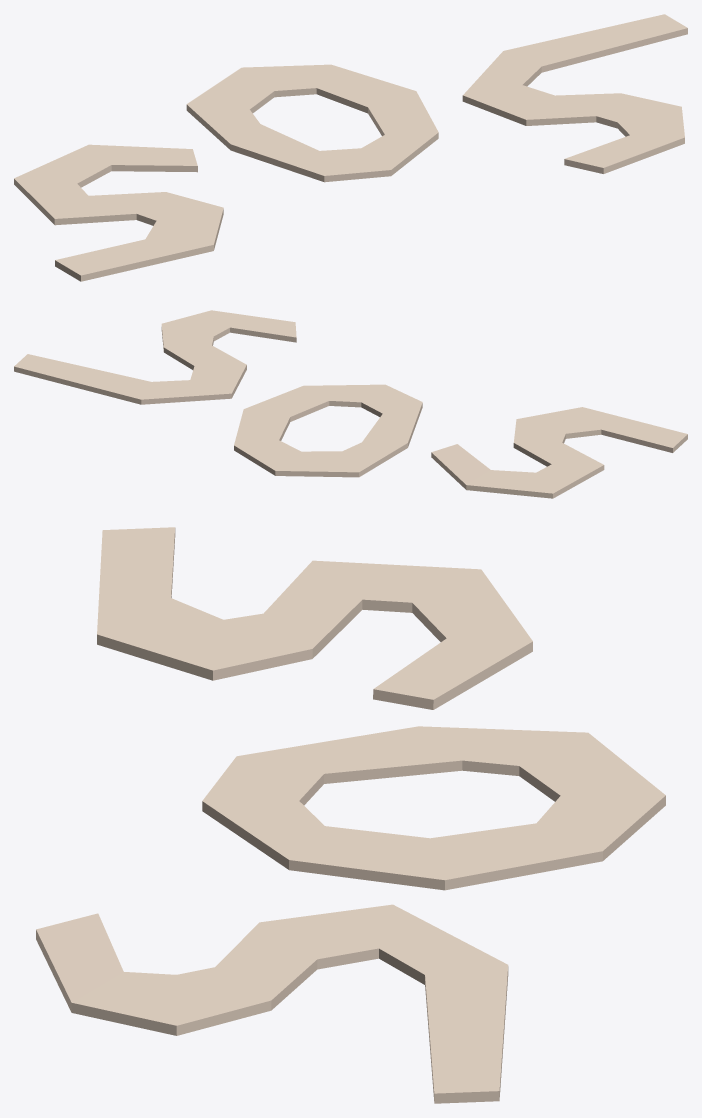
File: apocalypse_sos-ground-apocalypse.fbx
The picture shows the model from 3 angles, top to bottom: view 1: azimuth 30°, elevation 25°; view 2: azimuth 150°, elevation 25°; view 3: azimuth 270°, elevation 25°; orthographic projection. The views are drawn at different scales.
Visible parts, largest first — view 1: apocalypse_sos_ground_apocalypse; view 2: apocalypse_sos_ground_apocalypse; view 3: apocalypse_sos_ground_apocalypse.
Part boxes in pixels (x1,y1,x2,y2): apocalypse_sos_ground_apocalypse: [14, 14, 687, 281]; apocalypse_sos_ground_apocalypse: [14, 310, 687, 498]; apocalypse_sos_ground_apocalypse: [36, 527, 665, 1103].
Size of the model in its own units: 200 by 1.68 by 94.
